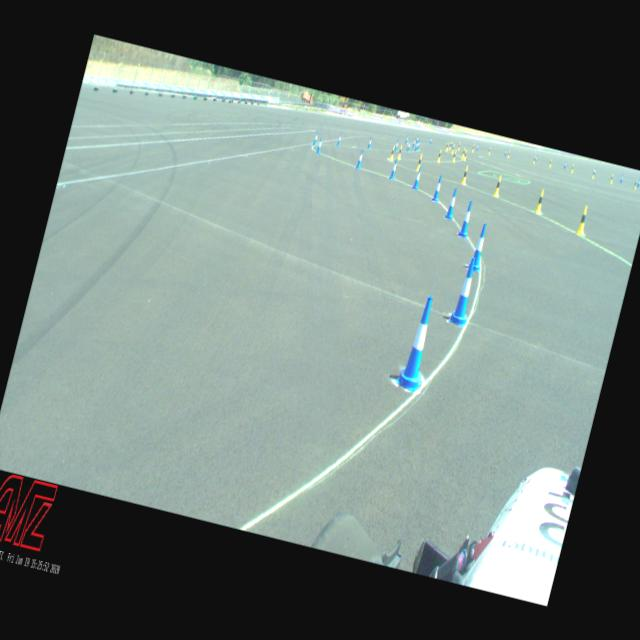blue_cone: (394, 292, 443, 393), (448, 254, 482, 326), (467, 222, 491, 272), (457, 198, 476, 238), (444, 187, 459, 220), (432, 175, 444, 202), (412, 166, 423, 190), (388, 158, 399, 180), (356, 148, 364, 168), (316, 136, 324, 154), (312, 131, 320, 145), (367, 136, 373, 149), (393, 139, 399, 151), (337, 133, 342, 146), (406, 140, 411, 151), (414, 141, 419, 151), (404, 134, 408, 144), (636, 178, 640, 187), (412, 138, 416, 147), (416, 139, 420, 148), (620, 174, 624, 182), (475, 144, 479, 152), (503, 149, 507, 156), (428, 137, 432, 144), (415, 136, 419, 142), (450, 140, 453, 146), (594, 167, 596, 175), (564, 161, 566, 168)
yellow_cone: (576, 205, 590, 235), (534, 188, 547, 214), (492, 175, 504, 198), (460, 165, 471, 185), (414, 154, 422, 172), (388, 145, 396, 161), (396, 144, 404, 160), (436, 150, 442, 162), (451, 150, 457, 162), (632, 179, 638, 189), (590, 168, 596, 178), (609, 173, 614, 184), (462, 150, 467, 160), (461, 147, 465, 158), (487, 146, 491, 156), (448, 140, 452, 150), (548, 158, 552, 168), (456, 142, 461, 150), (451, 144, 455, 153), (532, 155, 536, 164), (470, 144, 474, 152), (570, 164, 574, 172), (445, 142, 449, 150), (506, 150, 510, 158)
